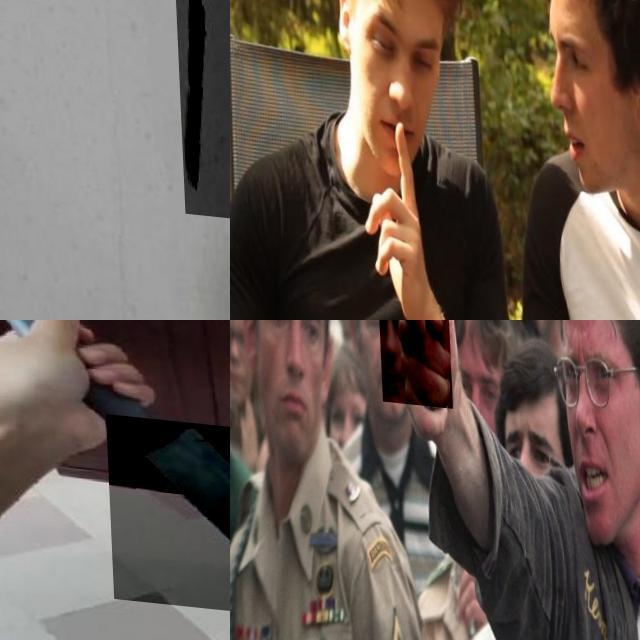-: (103, 409, 230, 613), (166, 0, 230, 217)
gun-knife-thesis - v11 Yolov5 augmented: (371, 320, 449, 441)
